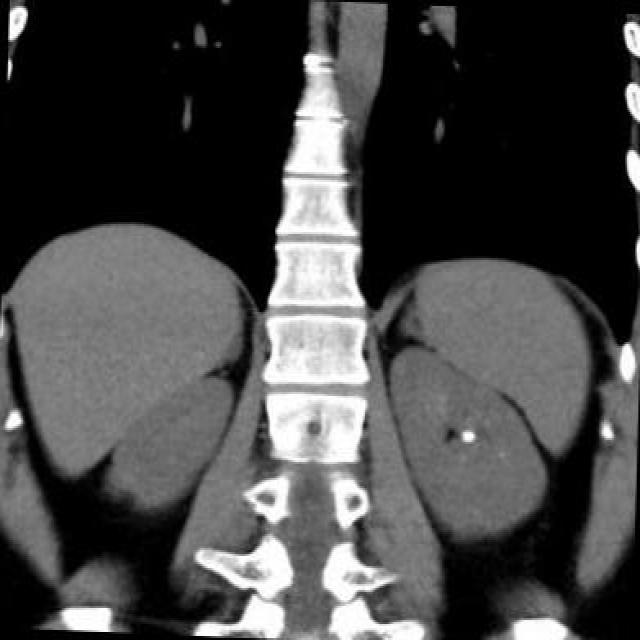Tas_Var: (458, 426, 478, 442), (494, 447, 508, 459)
